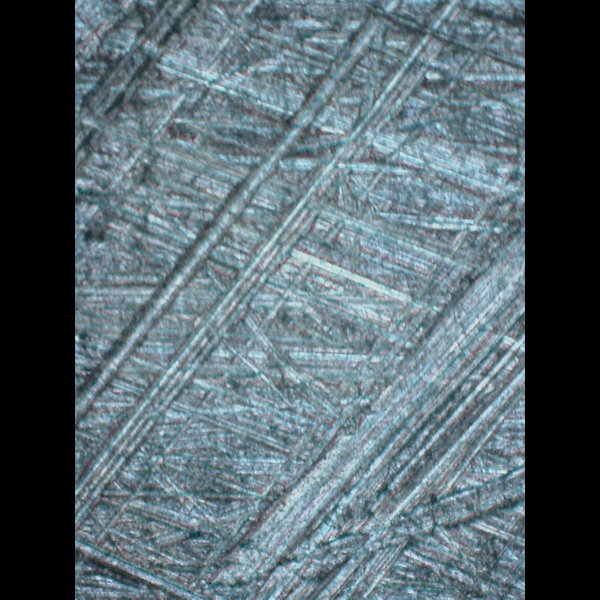d: (74, 0, 523, 597)
